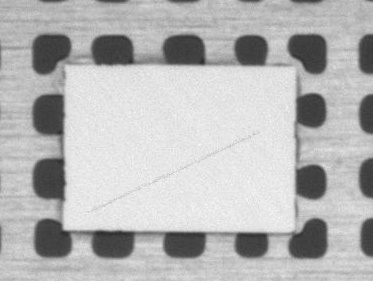DIE_CRACK: (117, 99, 344, 160)
